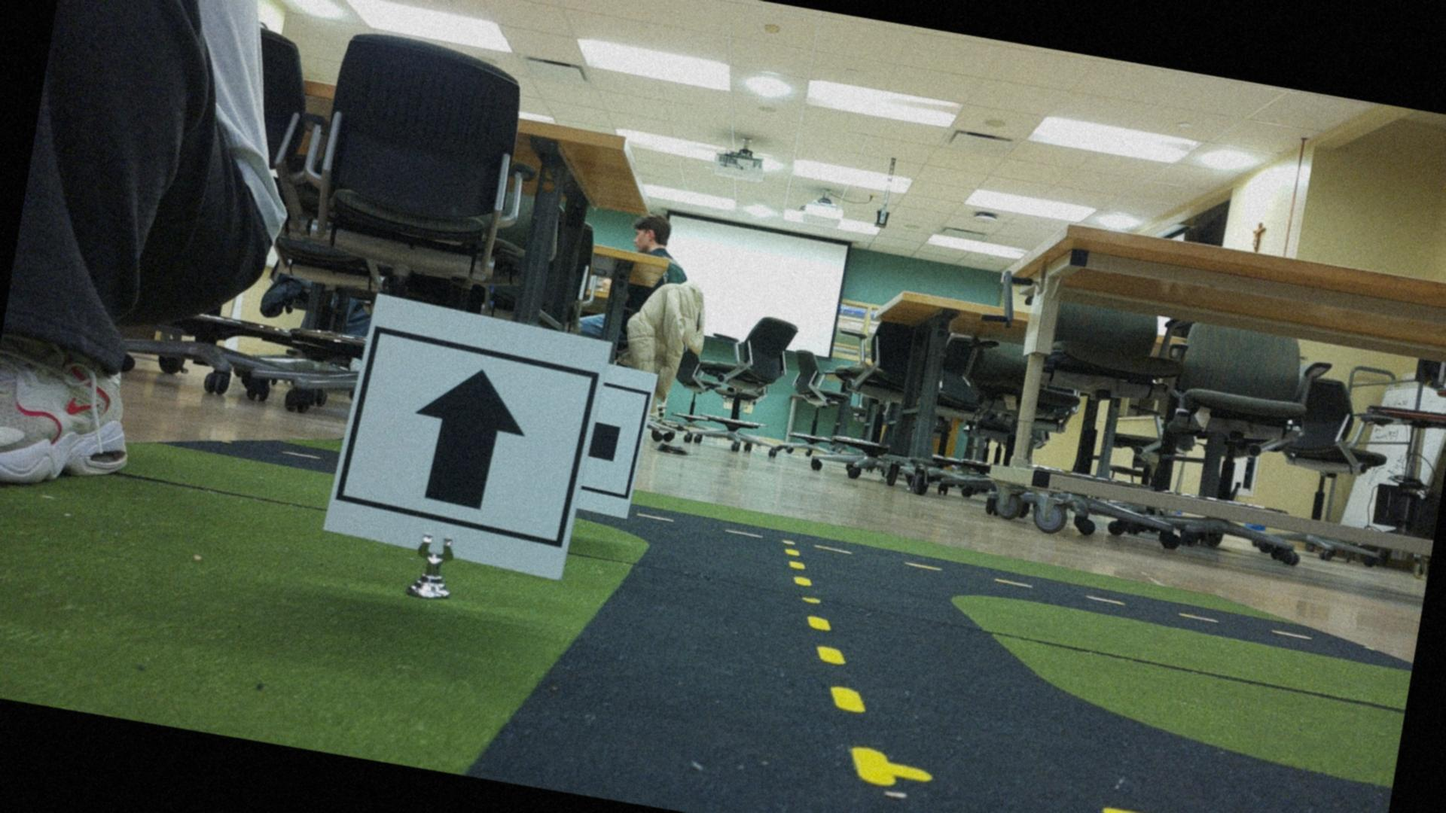gostraight: (329, 304, 596, 570)
yellowline: (746, 537, 929, 787)
